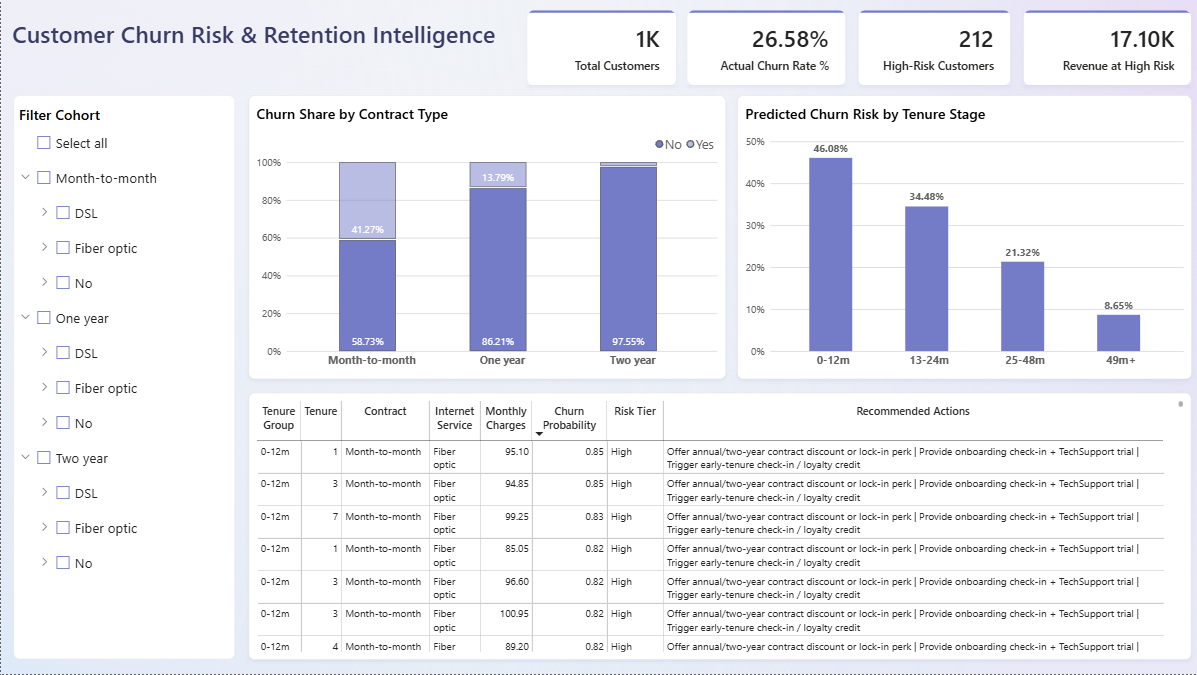

What the dashboard file says about the page in this screenshot:
{"tool":"powerbi","page":{"name":"Page 1","canvas":[1920,1080],"ordinal":0},"visuals":[{"type":"textbox","box":[18,30,826,82],"z":0},{"type":"cardVisual","fields":{"Data":["powerbi_churn_data.Total Customers"]},"box":[842,18.6,238.4,120],"z":1000},{"type":"cardVisual","fields":{"Data":["powerbi_churn_data.Actual Churn Rate %"]},"box":[1098.9,18.6,253.6,120],"z":2000},{"type":"cardVisual","fields":{"Data":["powerbi_churn_data.High-Risk Customers"]},"box":[1372.7,18.2,243.4,120.2],"z":3000},{"type":"cardVisual","fields":{"Data":["powerbi_churn_data.Revenue at Risk (High Risk)"]},"box":[1635.4,18.2,268.7,120.2],"z":4000},{"type":"slicer","fields":{"Values":["powerbi_churn_data.Contract","powerbi_churn_data.InternetService","powerbi_churn_data.risk_tier","powerbi_churn_data.tenure_group"]},"box":[20.5,154.5,354.5,902.3],"z":5000},{"type":"hundredPercentStackedColumnChart","title":"Churn Share by Contract Type","fields":{"Category":["powerbi_churn_data.Contract"],"Series":["powerbi_churn_data.Actual_Churn"],"Y":["powerbi_churn_data.Total Customers"]},"box":[395.5,154.5,763.6,454.5],"z":6000},{"type":"columnChart","title":"Predicted Churn Risk by Tenure Stage","fields":{"Category":["powerbi_churn_data.tenure_group"],"Y":["powerbi_churn_data.Avg Predicted Churn Prob"]},"box":[1177.3,154.5,727.3,454.5],"z":7000},{"type":"tableEx","fields":{"Values":["powerbi_churn_data.tenure_group","powerbi_churn_data.tenure","powerbi_churn_data.Contract","powerbi_churn_data.InternetService","powerbi_churn_data.MonthlyCharges","powerbi_churn_data.churn_probability","powerbi_churn_data.risk_tier","powerbi_churn_data.recommended_actions"]},"box":[395.5,629.5,1509.1,427.3],"z":8000}]}

Visuals, with their boxes in screenshot pixels (x1, y1, x2, y2), scaled from the page's 1920x1080 canvas onto the 1197x675 screenshot:
textbox: 11/19/526/70
cardVisual - powerbi_churn_data.Total Customers: 525/12/674/87
cardVisual - powerbi_churn_data.Actual Churn Rate %: 685/12/843/87
cardVisual - powerbi_churn_data.High-Risk Customers: 856/11/1008/86
cardVisual - powerbi_churn_data.Revenue at Risk (High Risk): 1020/11/1187/86
slicer - powerbi_churn_data.Contract x powerbi_churn_data.InternetService: 13/97/234/660
"Churn Share by Contract Type" hundredPercentStackedColumnChart: 247/97/723/381
"Predicted Churn Risk by Tenure Stage" columnChart: 734/97/1187/381
tableEx - powerbi_churn_data.tenure_group x powerbi_churn_data.tenure: 247/393/1187/660
